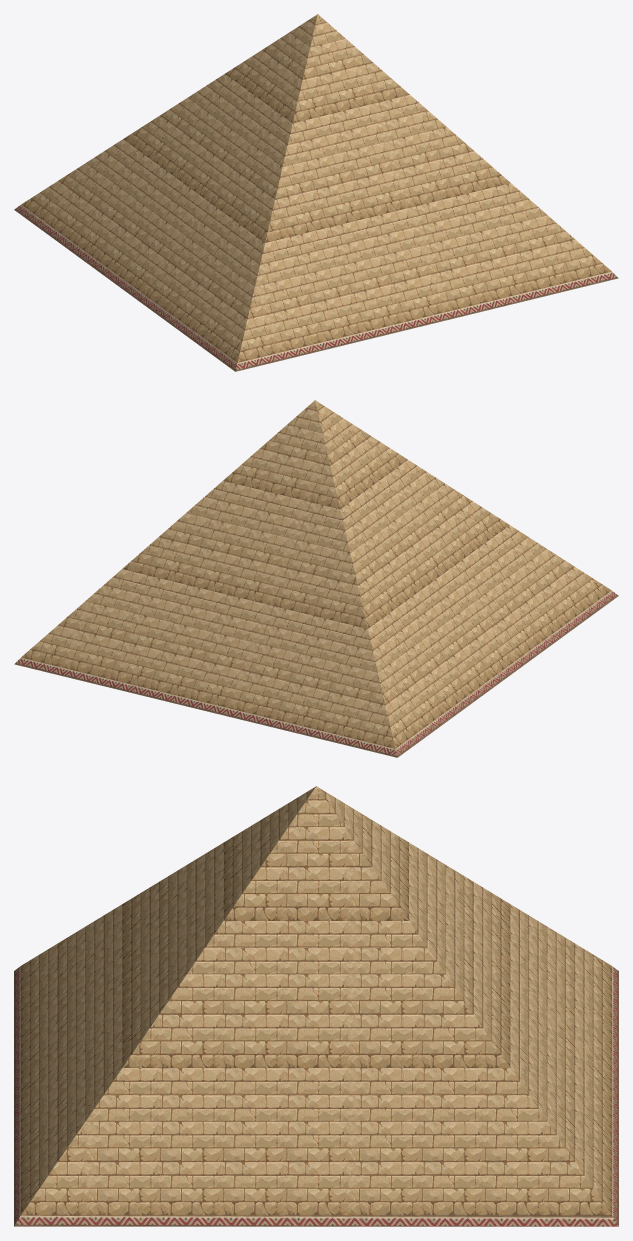
Rendered from furni_0200952.FBX.
The picture shows the model from 3 angles, top to bottom: view 1: azimuth 30°, elevation 25°; view 2: azimuth 150°, elevation 25°; view 3: azimuth 270°, elevation 25°; orthographic projection. The views are drawn at different scales.
Visible parts, largest first — view 1: furni_0200952; view 2: furni_0200952; view 3: furni_0200952.
Boxes of the visible parts, x1,y1,x2,y2 form: furni_0200952: (14, 14, 618, 371); furni_0200952: (14, 400, 618, 757); furni_0200952: (14, 786, 618, 1226).
Size of the model in its own units: 1930 by 1104 by 1930.
2 materials, 2 textured.
